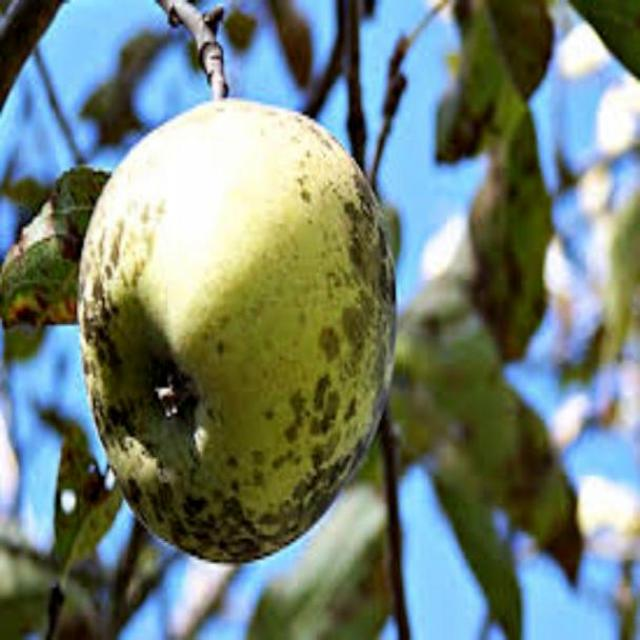BLOTCH: (57, 62, 420, 598)
